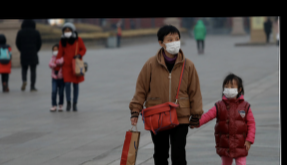with_mask: (162, 34, 181, 53), (221, 83, 239, 99), (62, 28, 73, 38), (51, 46, 59, 55)
